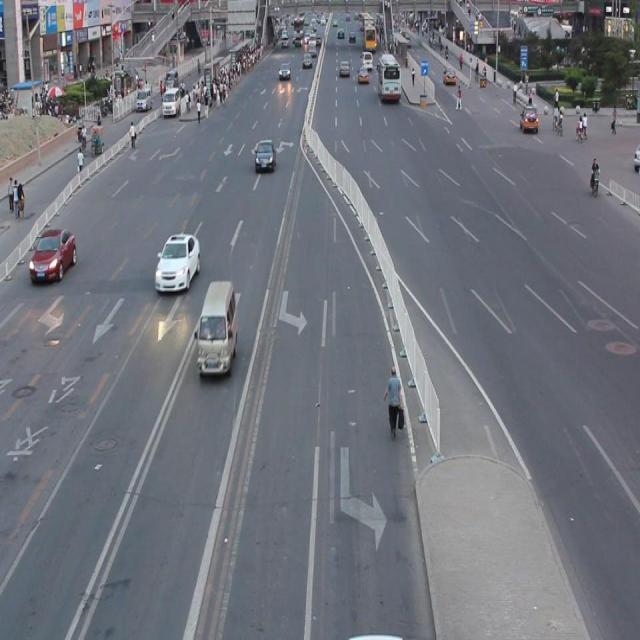car: (154, 230, 200, 291), (30, 228, 77, 283)
truck: (197, 280, 239, 374)
